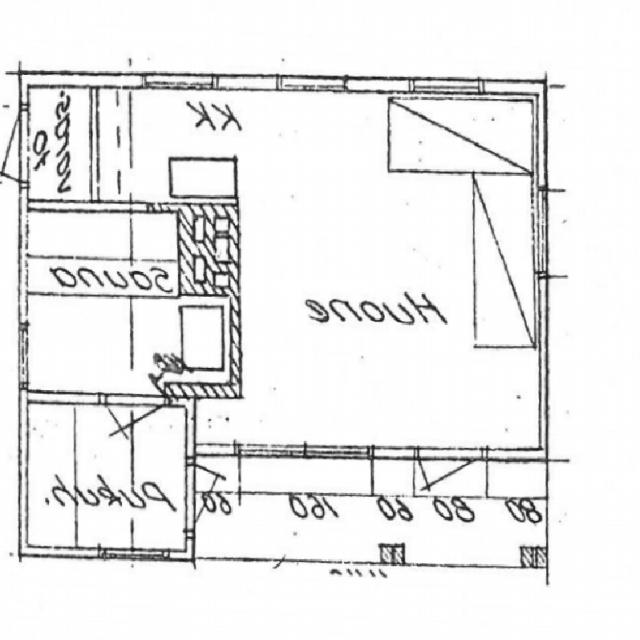door: (418, 445, 484, 535), (106, 394, 163, 473), (185, 464, 251, 532), (0, 108, 28, 182)
